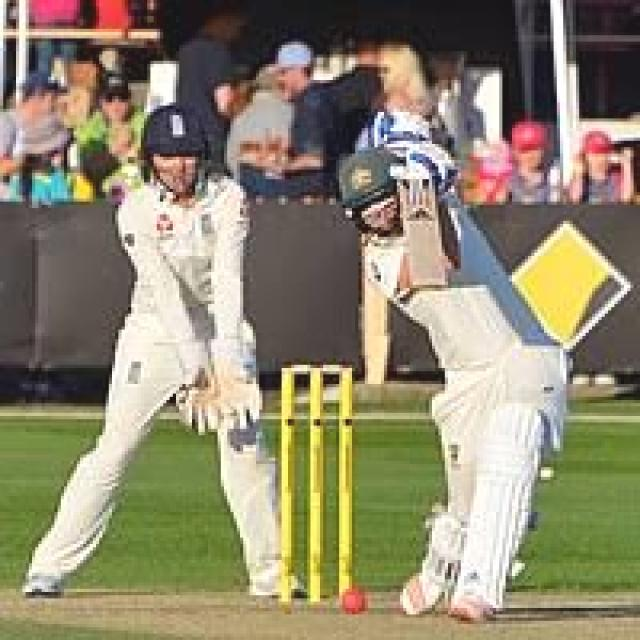toe: (405, 261, 451, 301)
